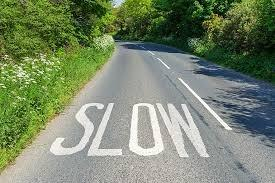road: (0, 42, 274, 182)
